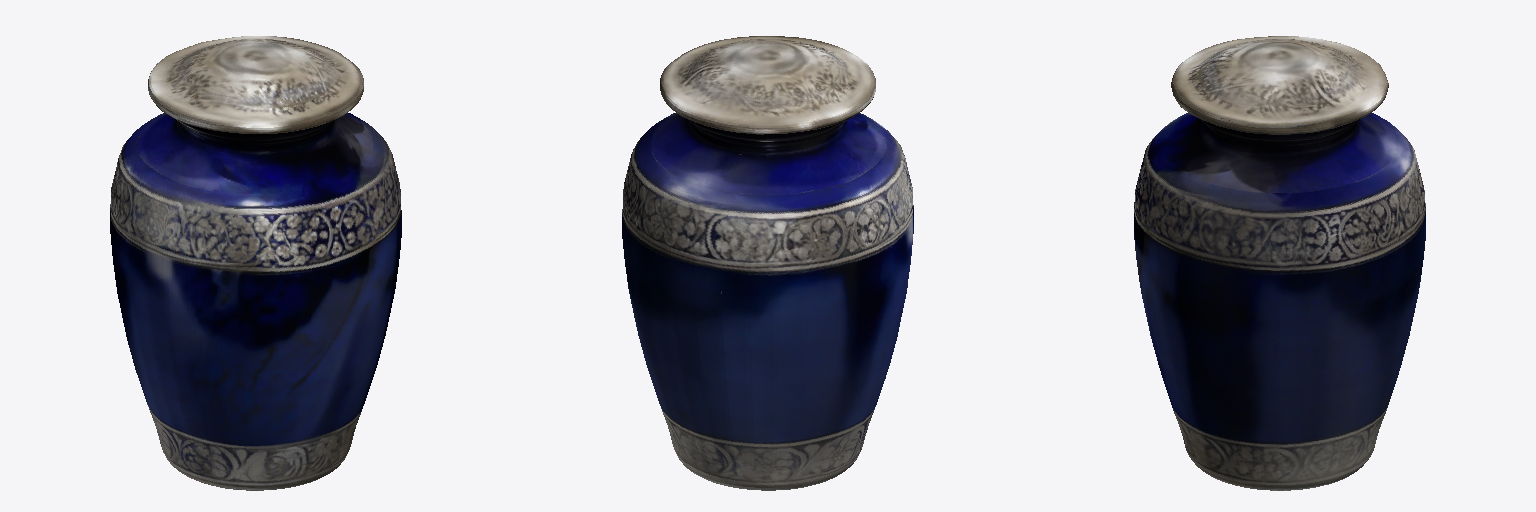
3 renders of one model, left to right at view 1: azimuth 30°, elevation 25°; view 2: azimuth 150°, elevation 25°; view 3: azimuth 270°, elevation 25°, orthographic.
Parts seen in each view (by area): view 1: Blue_Elegance_[number redacted]; view 2: Blue_Elegance_[number redacted]; view 3: Blue_Elegance_[number redacted].
Part boxes in pixels (bbox=[...]): Blue_Elegance_[number redacted]: bbox=[110, 36, 401, 490]; Blue_Elegance_[number redacted]: bbox=[622, 36, 913, 490]; Blue_Elegance_[number redacted]: bbox=[1134, 36, 1425, 490].
Bounding box in the file's own units: 1.32 × 2 × 1.32.
Materials: 1 (1 with a texture image).